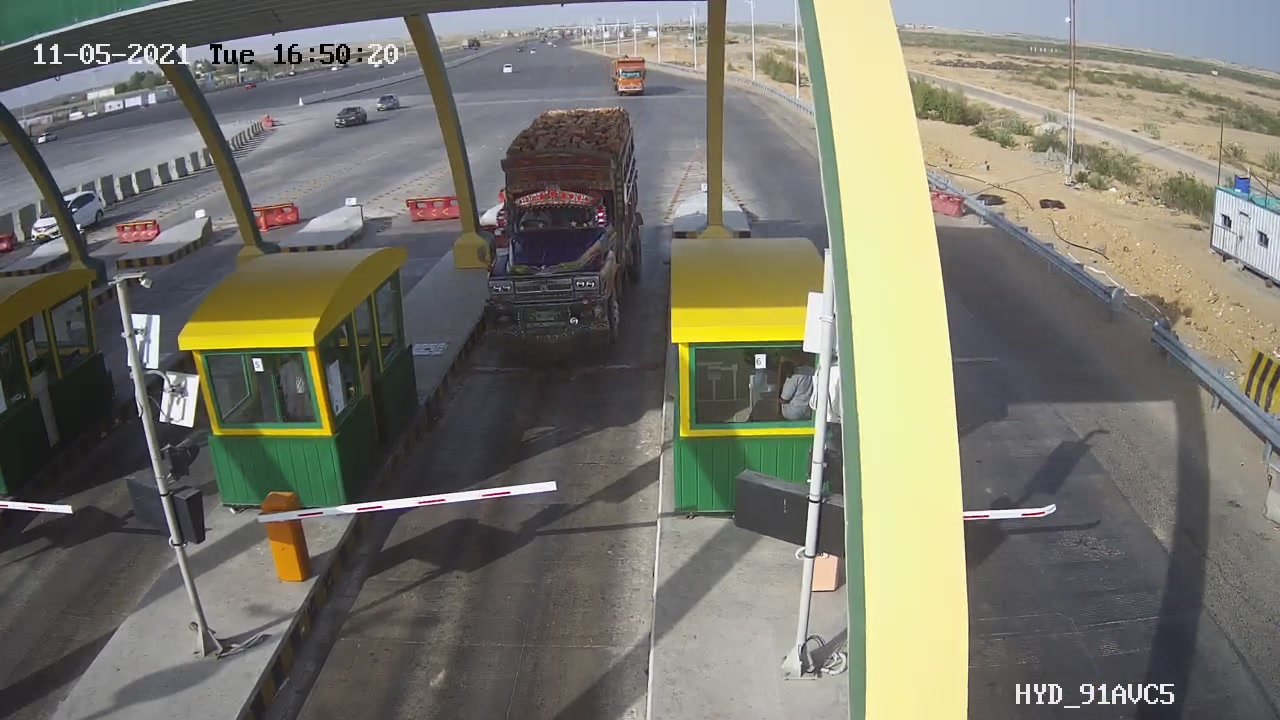F5: (455, 93, 672, 375)
